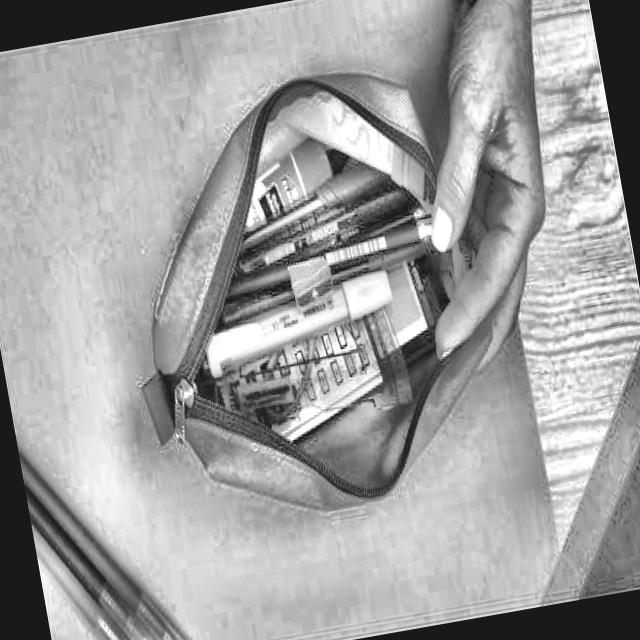Pen: (17, 421, 204, 640)
